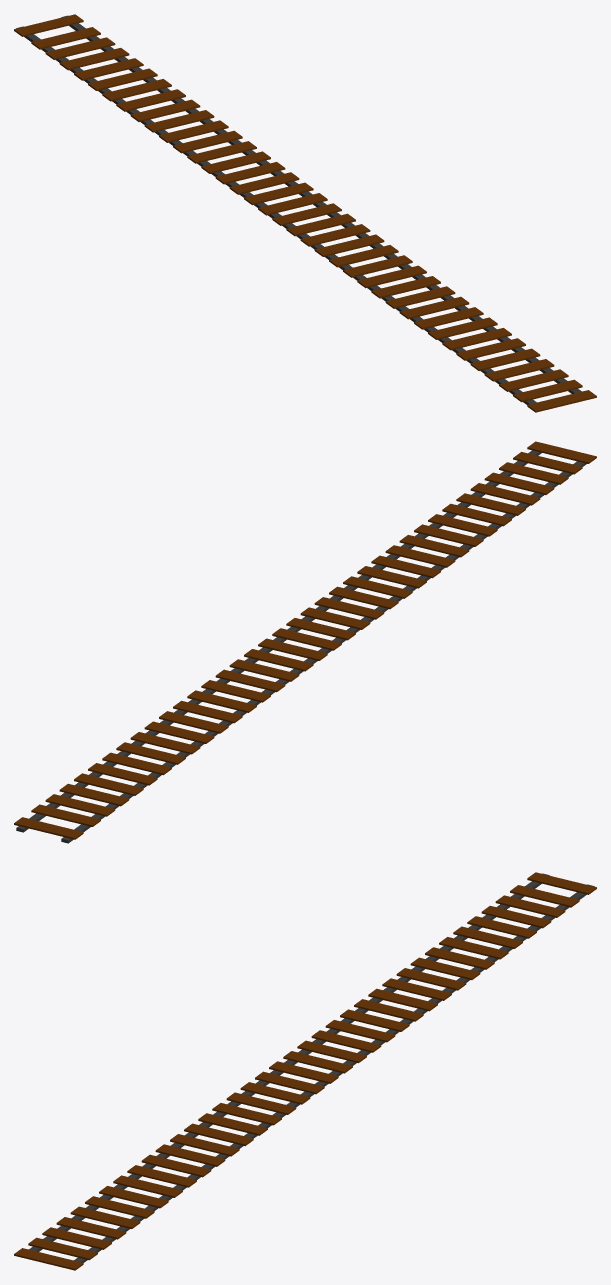
Rendered from train tracks HW.fbx.
3 views of the same model, one above another, from view 1: azimuth 30°, elevation 25°; view 2: azimuth 150°, elevation 25°; view 3: azimuth 330°, elevation 25° (orthographic).
Visible parts, largest first — view 1: pCube42; view 2: pCube42; view 3: pCube42.
Boxes of the visible parts, x1,y1,x2,y2 form: pCube42: (14,14,596,412); pCube42: (14,441,596,843); pCube42: (14,872,596,1270).
Size of the model in its own units: 1.44 by 0.1068 by 21.23.
